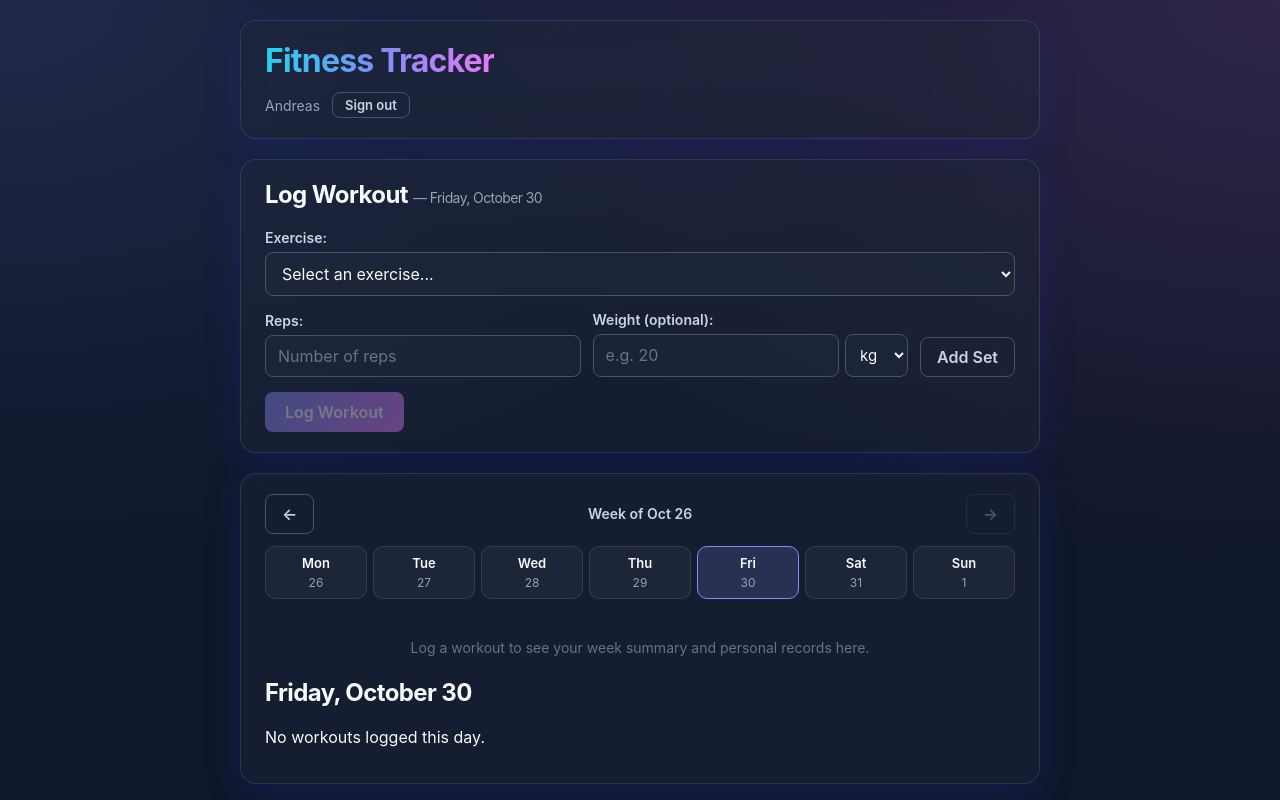
Test: App — authentication › signs out and shows login page on sign-out click
Click the button "Sign out" at (371, 105), box [332, 92, 410, 118]
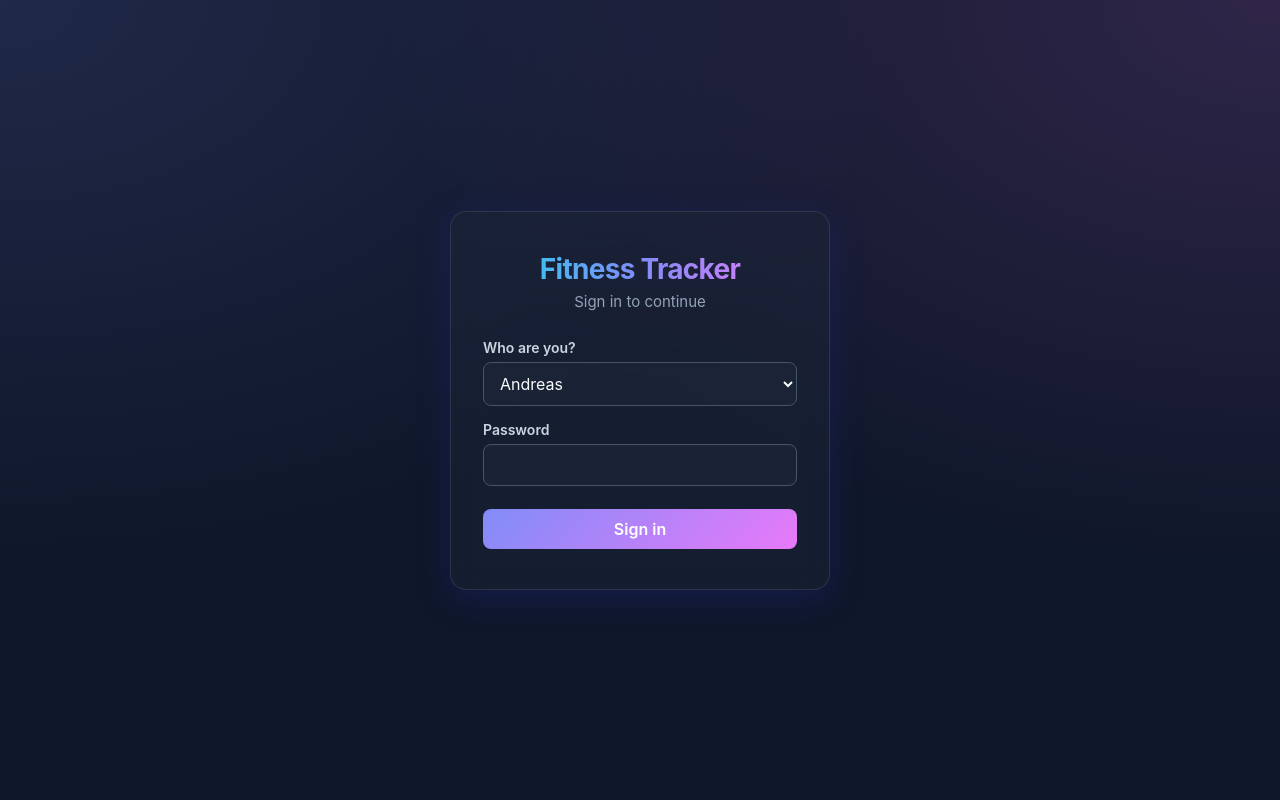
Expected: the button "Sign in" is shown, [483, 508, 797, 548]
